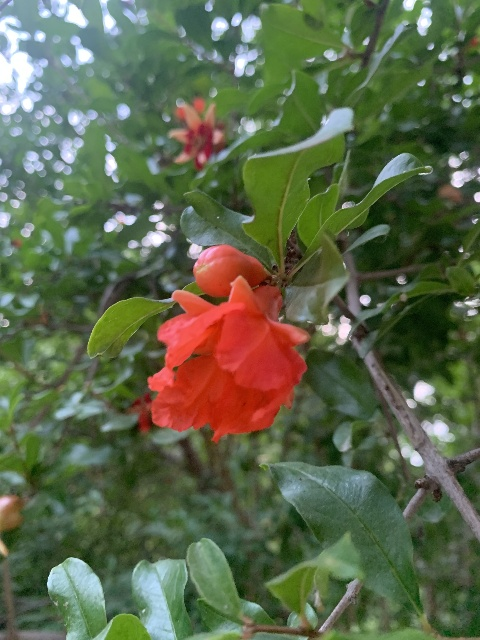bud: (192, 244, 269, 298)
flower: (147, 276, 311, 443), (169, 99, 226, 172)
